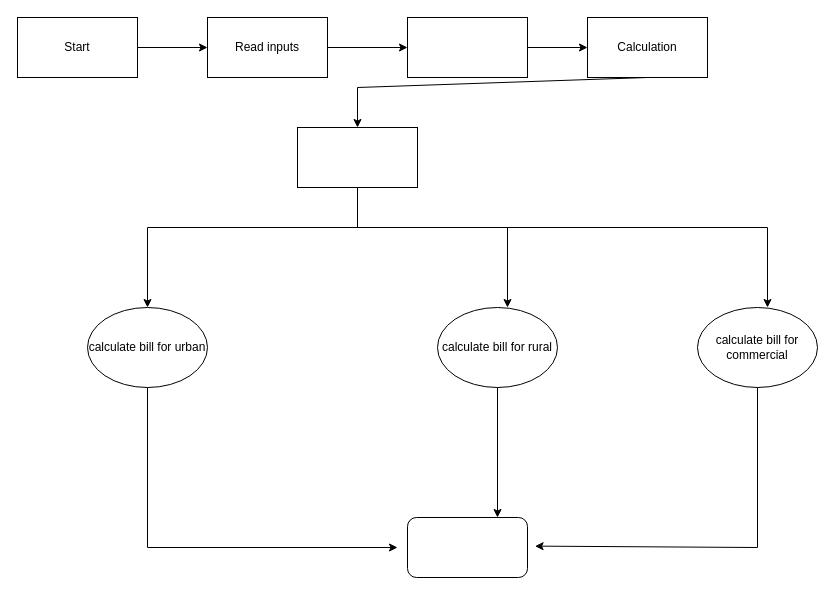
This 835x595 diagram has some shape labels left out. The shapes that lost their labels are listed below. From the top down, each one's centre as x and y in pixels, then its label:
(x=467, y=47): Read user details
(x=357, y=157): Option Urban/Rural/Commercial
(x=467, y=547): Display bill
